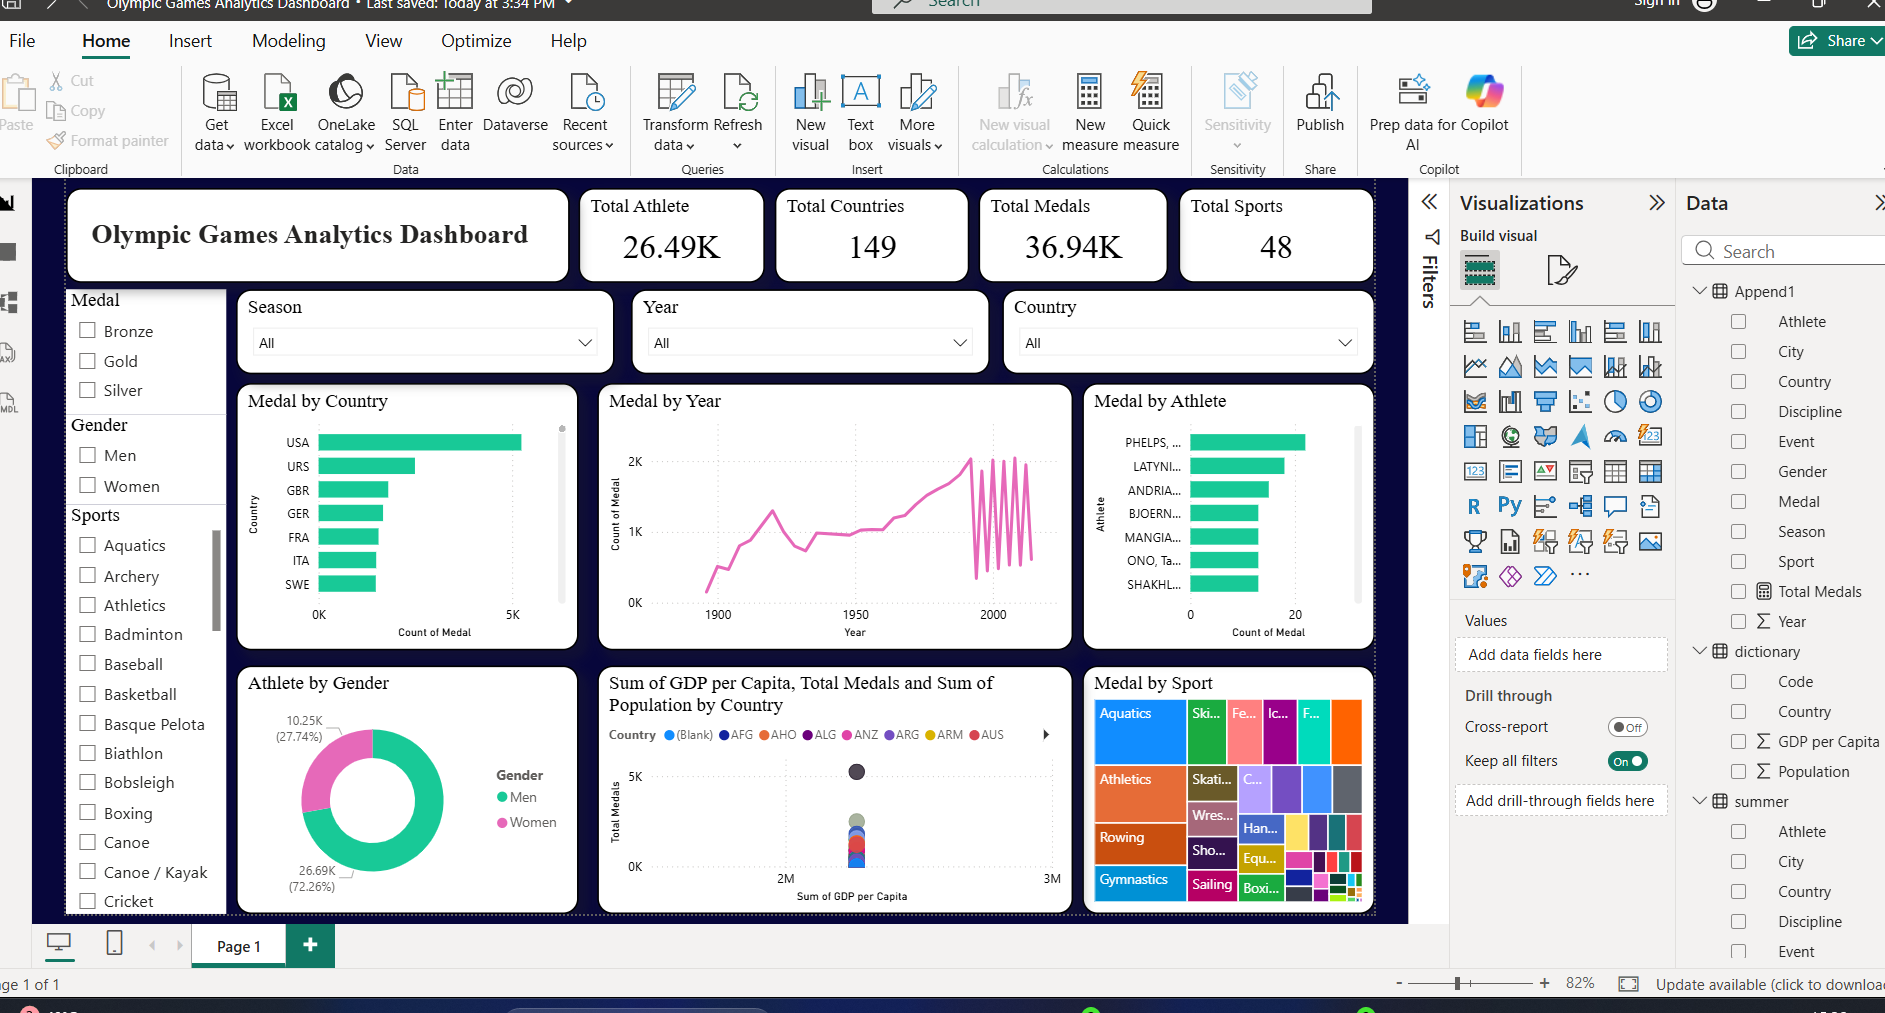

Layout of this report page (visuals, bound fields, positions):
{"tool":"powerbi","page":{"name":"Page 1","canvas":[1280,720],"ordinal":0},"visuals":[{"type":"card","title":"Total Athlete","fields":{"Values":["Count(Append1.Athlete)"]},"box":[501.4,9.8,182.2,92.9],"z":0},{"type":"card","title":"Total Countries","fields":{"Values":["Count(Append1.Country)"]},"box":[693.3,9.8,190.8,92.9],"z":1},{"type":"card","title":"Total Sports","fields":{"Values":["Count(Append1.Sport)"]},"box":[1088.3,9.8,192,92.9],"z":2},{"type":"card","title":"Total Medals","fields":{"Values":["CountNonNull(Append1.Medal)"]},"box":[892.7,9.8,185.9,92.9],"z":3},{"type":"slicer","title":"Year","fields":{"Values":["Append1.Year"]},"box":[552.7,108.8,351,83.2],"z":4},{"type":"slicer","title":"Country","fields":{"Values":["Append1.Country"]},"box":[915.9,108.8,364.4,83.2],"z":5},{"type":"slicer","title":"Sports","fields":{"Values":["Append1.Sport"]},"box":[0,319.2,156.5,401.1],"z":6},{"type":"slicer","title":"Medal","fields":{"Values":["Append1.Medal"]},"box":[0,108.8,156.5,122.3],"z":7},{"type":"slicer","title":"Gender","fields":{"Values":["Append1.Gender"]},"box":[0,231.1,156.5,88],"z":8},{"type":"barChart","title":"Medal by Country","fields":{"Category":["Append1.Country"],"Y":["CountNonNull(Append1.Medal)"]},"box":[166.3,200.5,335.1,261.7],"z":9},{"type":"donutChart","title":"Athlete by Gender","fields":{"Category":["Append1.Gender"],"Y":["CountNonNull(Append1.Athlete)"]},"box":[166.3,476.9,335.1,243.3],"z":10},{"type":"treemap","title":" Medal by Sport","fields":{"Group":["Append1.Sport"],"Values":["CountNonNull(Append1.Medal)"]},"box":[994.2,476.9,286.1,243.3],"z":11},{"type":"lineChart","title":"Medal by Year","fields":{"Category":["Append1.Year"],"Y":["CountNonNull(Append1.Medal)"]},"box":[519.7,200.5,465.9,261.7],"z":12},{"type":"barChart","title":"Medal by Athlete","fields":{"Category":["Append1.Athlete"],"Y":["CountNonNull(Append1.Medal)"]},"box":[994.2,200.5,286.1,261.7],"z":13},{"type":"scatterChart","fields":{"X":["Sum(dictionary.GDP per Capita)"],"Series":["Append1.Country"],"Size":["Sum(dictionary.Population)"],"Y":["Append1.Total Medals"]},"box":[519.7,476.9,465.9,243.3],"z":14},{"type":"textbox","box":[0,9.8,492.8,92.9],"z":15},{"type":"slicer","title":"Season","fields":{"Values":["Append1.Season"]},"box":[166.3,108.8,370.5,83.2],"z":16}]}

Visuals, with their boxes on the page's 1280x720 design canvas (x1, y1, x2, y2). These are canvas units, not pixel positions in the 1885x1013 screenshot, which may show the page scaled, cropped or inside an application window:
"Total Athlete" card: box=[501, 10, 684, 103]
"Total Countries" card: box=[693, 10, 884, 103]
"Total Sports" card: box=[1088, 10, 1280, 103]
"Total Medals" card: box=[893, 10, 1079, 103]
"Year" slicer: box=[553, 109, 904, 192]
"Country" slicer: box=[916, 109, 1280, 192]
"Sports" slicer: box=[0, 319, 156, 720]
"Medal" slicer: box=[0, 109, 156, 231]
"Gender" slicer: box=[0, 231, 156, 319]
"Medal by Country" barChart: box=[166, 200, 501, 462]
"Athlete by Gender" donutChart: box=[166, 477, 501, 720]
" Medal by Sport" treemap: box=[994, 477, 1280, 720]
"Medal by Year" lineChart: box=[520, 200, 986, 462]
"Medal by Athlete" barChart: box=[994, 200, 1280, 462]
scatterChart - Sum(dictionary.GDP per Capita) x Append1.Country: box=[520, 477, 986, 720]
textbox: box=[0, 10, 493, 103]
"Season" slicer: box=[166, 109, 537, 192]
